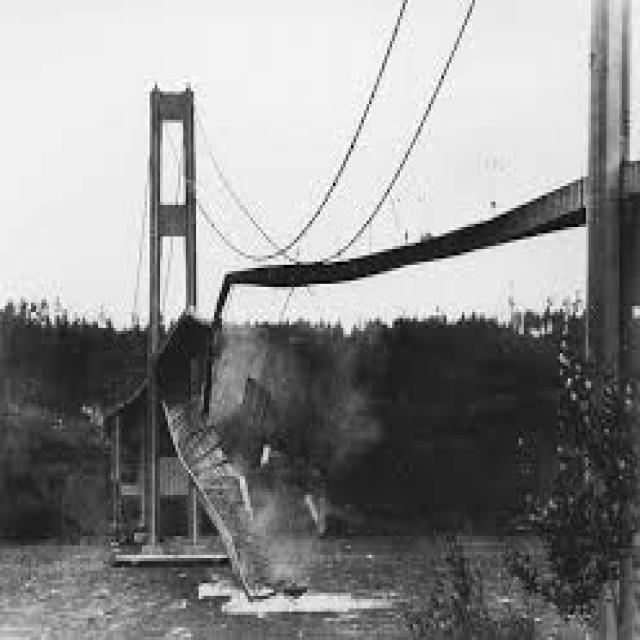bridge collapse: (125, 188, 402, 632)
